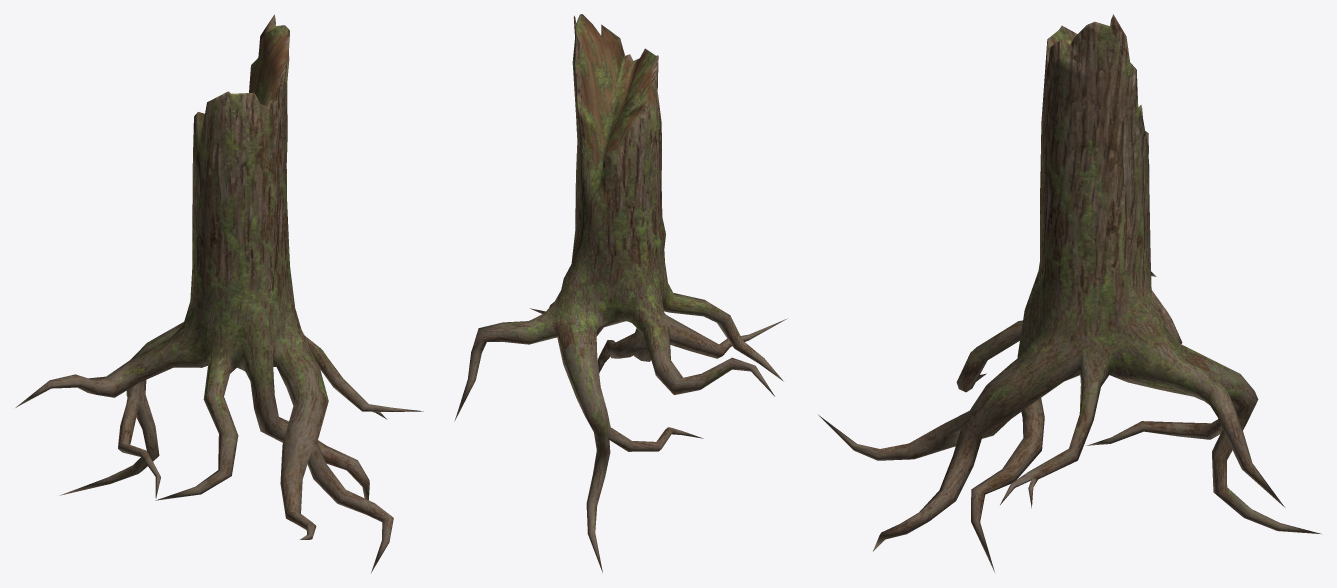
File: TreeBroken3.fbx
The picture shows the model from 3 angles, left to right: view 1: azimuth 30°, elevation 25°; view 2: azimuth 150°, elevation 25°; view 3: azimuth 270°, elevation 25°; orthographic projection. The views are drawn at different scales.
Visible parts, largest first — view 1: SM_cmn_mount_BrokenTree_02a; view 2: SM_cmn_mount_BrokenTree_02a; view 3: SM_cmn_mount_BrokenTree_02a.
Part boxes in pixels (x1,y1,x2,y2): SM_cmn_mount_BrokenTree_02a: (15,14,423,572); SM_cmn_mount_BrokenTree_02a: (454,14,787,572); SM_cmn_mount_BrokenTree_02a: (818,14,1321,572).
Size of the model in its own units: 354 by 513 by 400.
